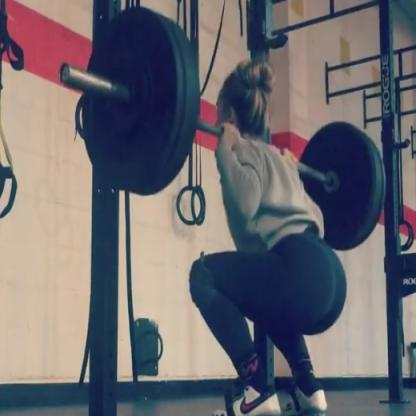barbell: (59, 7, 385, 252)
